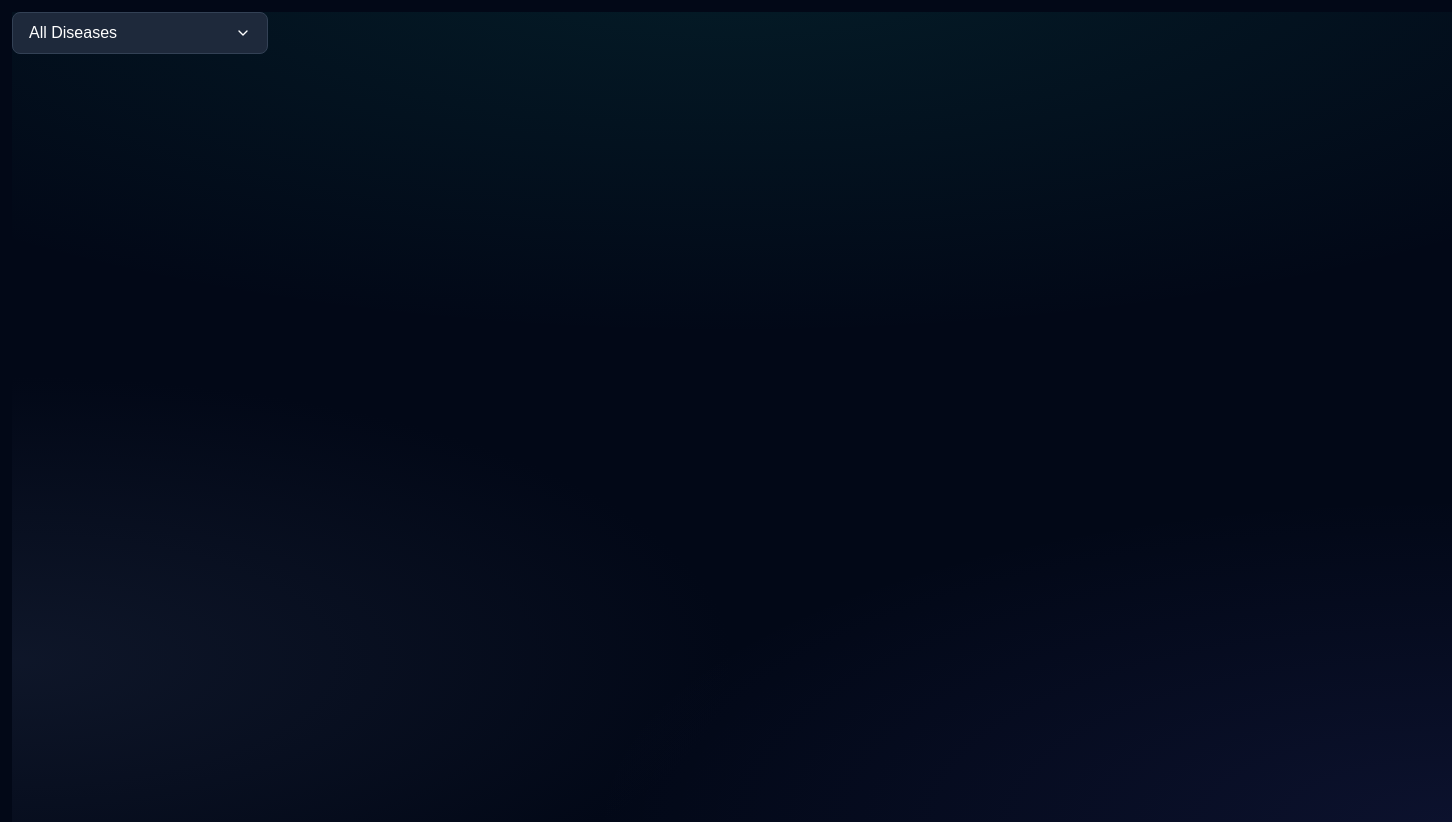
Test case: Feature C3: Outbreak Map & Clustering Suite › DiseaseCombobox Surveillance Default Options › renders with 7 default surveillance diseases when search query is empty
The image size is (1452, 822).
Click the button with aria-label "disease filter" at (140, 33), box [12,12,268,54]
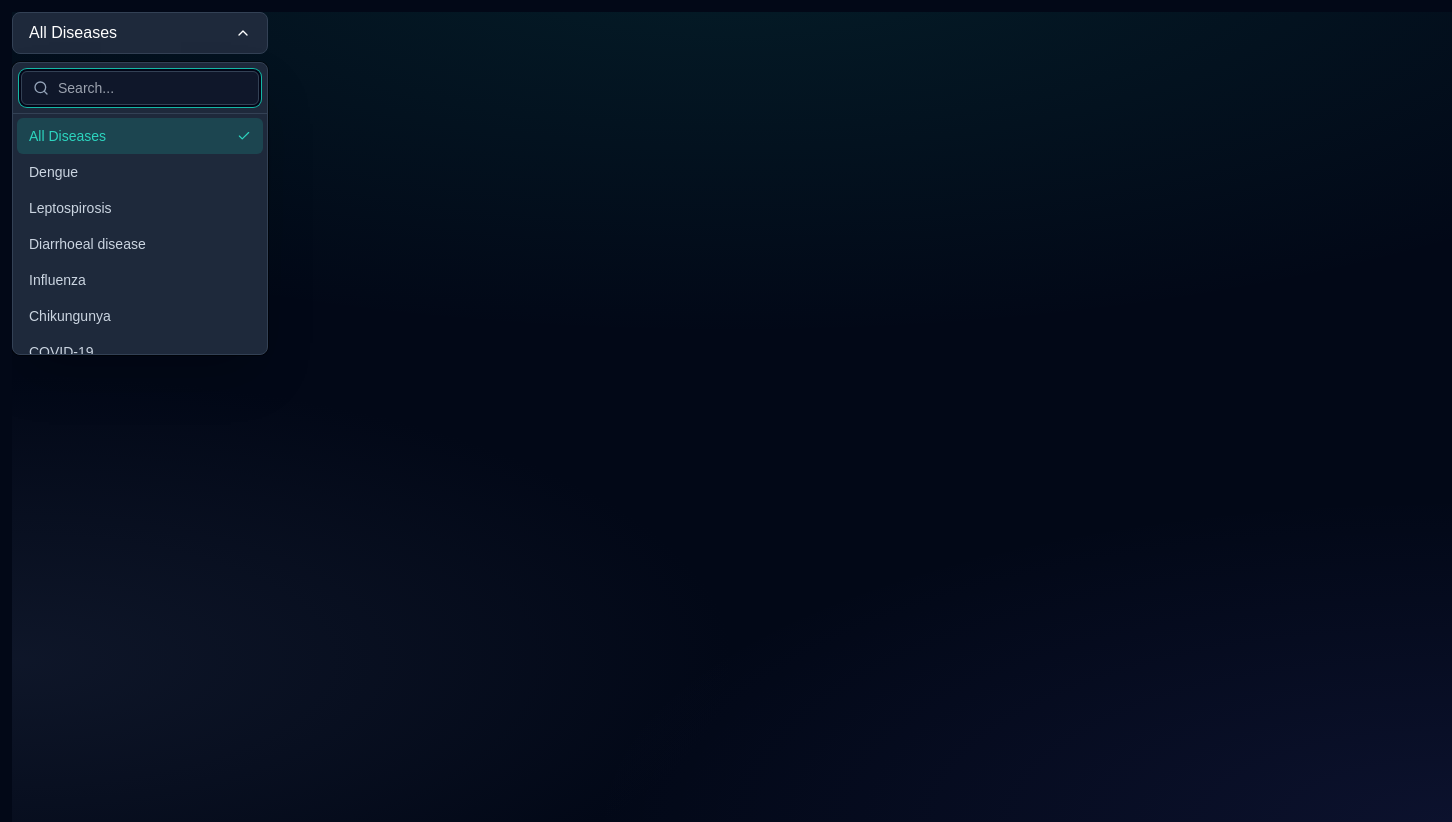
Expected: the option "All Diseases" is shown, [17,118,263,154]
Expected: the option "Dengue" is shown, [29,164,78,180]
Expected: the option "Leptospirosis" is shown, [29,200,112,216]
